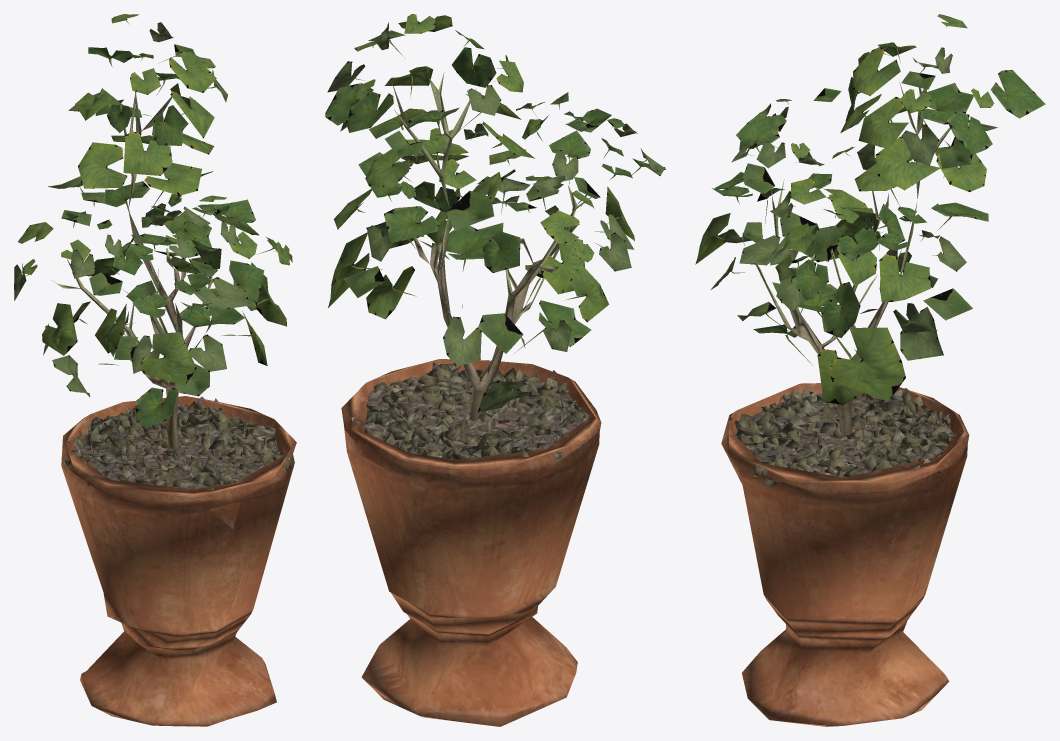
File: potted_plant_01.glb
The picture shows the model from 3 angles, left to right: view 1: azimuth 30°, elevation 25°; view 2: azimuth 150°, elevation 25°; view 3: azimuth 270°, elevation 25°; orthographic projection. The views are drawn at different scales.
Visible parts, largest first — view 1: potted_plant_01_pot, potted_plant_01_leaves, potted_plant_01_pebbles, potted_plant_01_stem; view 2: potted_plant_01_pot, potted_plant_01_leaves, potted_plant_01_pebbles, potted_plant_01_stem; view 3: potted_plant_01_pot, potted_plant_01_leaves, potted_plant_01_pebbles, potted_plant_01_stem.
Boxes of the visible parts, x1,y1,x2,y2 form: potted_plant_01_pot: [61, 396, 296, 726]; potted_plant_01_leaves: [14, 14, 292, 427]; potted_plant_01_pebbles: [64, 396, 293, 501]; potted_plant_01_stem: [52, 91, 219, 448]; potted_plant_01_pot: [341, 359, 601, 726]; potted_plant_01_leaves: [325, 14, 665, 412]; potted_plant_01_pebbles: [349, 362, 597, 478]; potted_plant_01_stem: [392, 72, 596, 420]; potted_plant_01_pot: [721, 383, 969, 726]; potted_plant_01_leaves: [695, 14, 1045, 404]; potted_plant_01_pebbles: [729, 388, 964, 487]; potted_plant_01_stem: [756, 82, 963, 437].
Bounding box in the file's own units: 0.5775 × 1.33 × 0.6336.
Materials: 2 (2 with a texture image).
